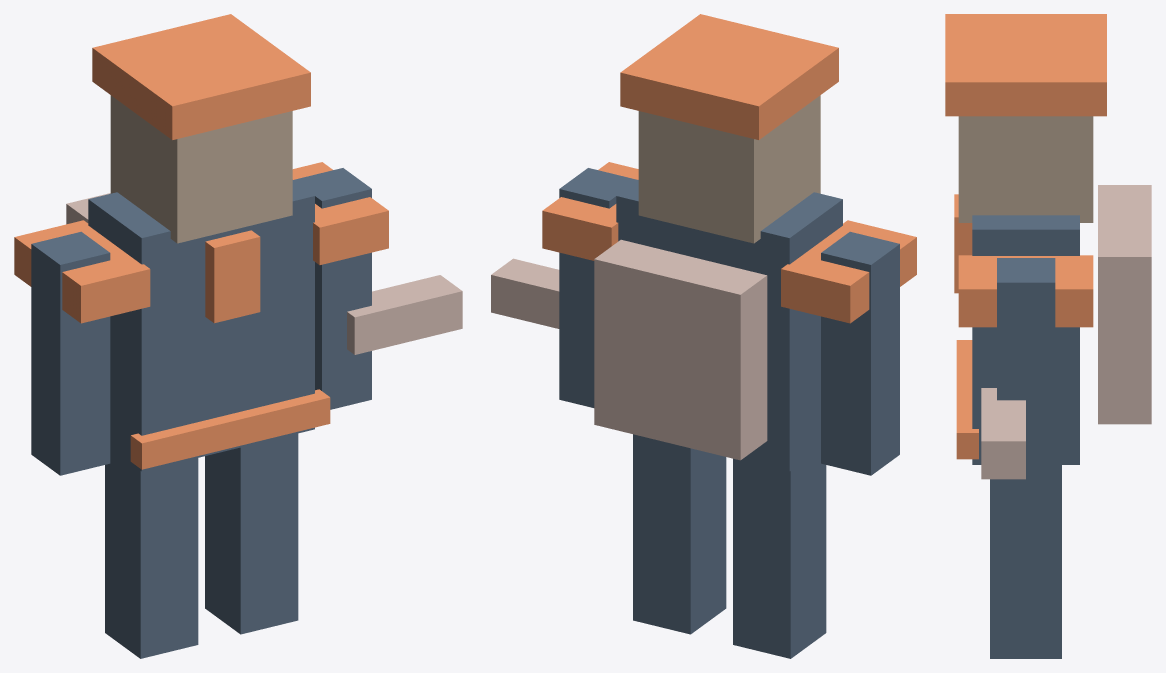
File: 15_kiva_signalborn_captain_at_missile.glb
3 renders of one model, left to right at view 1: azimuth 30°, elevation 25°; view 2: azimuth 150°, elevation 25°; view 3: azimuth 270°, elevation 25°, orthographic.
Parts seen in each view (by area): view 1: Kiva Signalborn, Captain at Missile; view 2: Kiva Signalborn, Captain at Missile; view 3: Kiva Signalborn, Captain at Missile.
Boxes of the visible parts, x1,y1,x2,y2 form: Kiva Signalborn, Captain at Missile: (14, 14, 462, 658); Kiva Signalborn, Captain at Missile: (491, 14, 916, 658); Kiva Signalborn, Captain at Missile: (945, 14, 1151, 658).
Size of the model in its own units: 1.12 by 1.53 by 0.5006.
